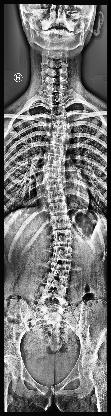Vertebrae: (47, 262, 76, 278), (48, 245, 76, 260), (48, 230, 74, 244), (48, 215, 74, 227), (43, 279, 68, 291), (42, 166, 66, 178), (46, 190, 70, 202), (48, 202, 72, 214), (43, 179, 69, 189), (46, 146, 68, 156), (44, 156, 66, 166), (45, 95, 71, 103), (50, 124, 70, 134), (50, 106, 70, 115), (49, 136, 67, 145), (52, 116, 70, 124)
